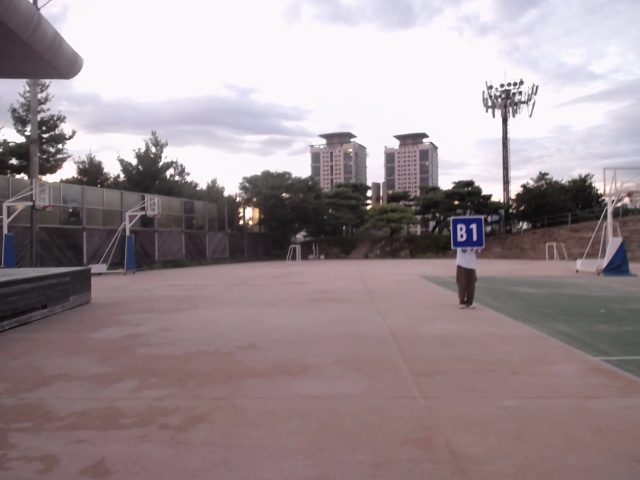delivery_b1: (452, 217, 484, 247)
